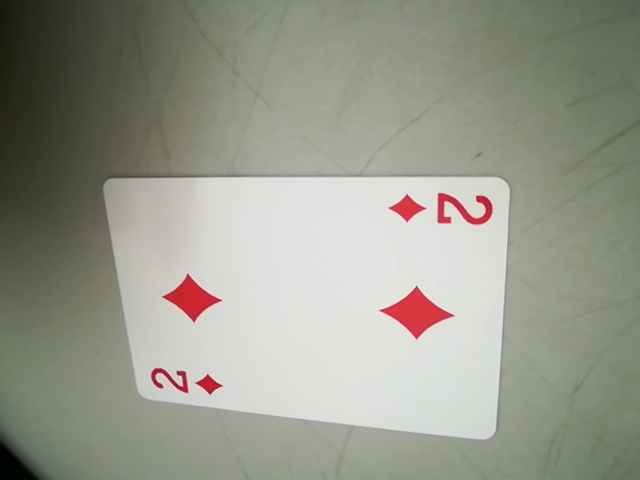fk 2: (385, 185, 499, 236), (146, 361, 232, 402)
